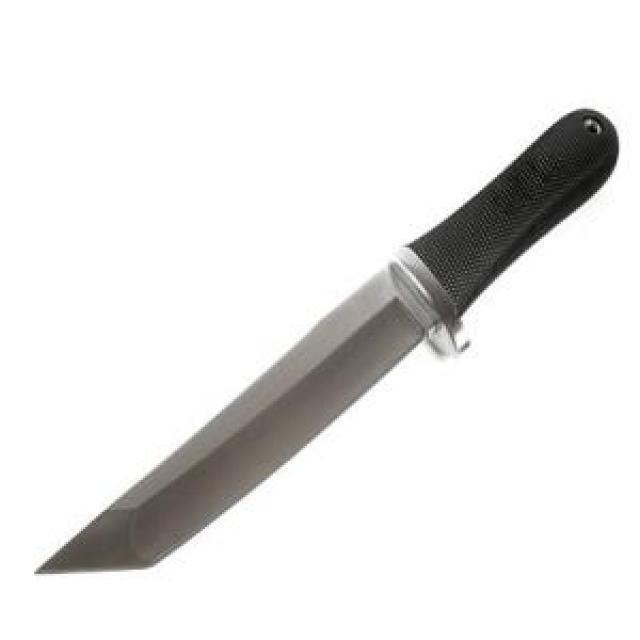knife: (21, 102, 624, 584)
